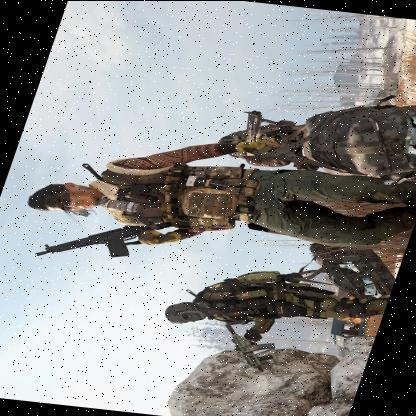rifle: (25, 204, 176, 275), (202, 324, 288, 372)
